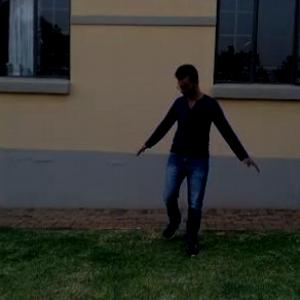land: (117, 52, 255, 258)
